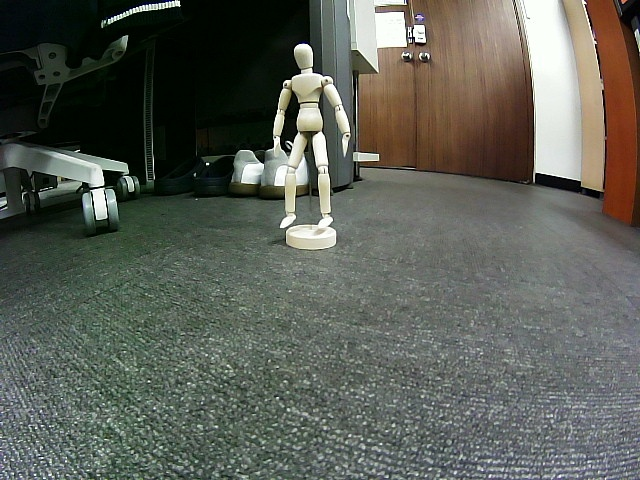person: (273, 43, 350, 229)
